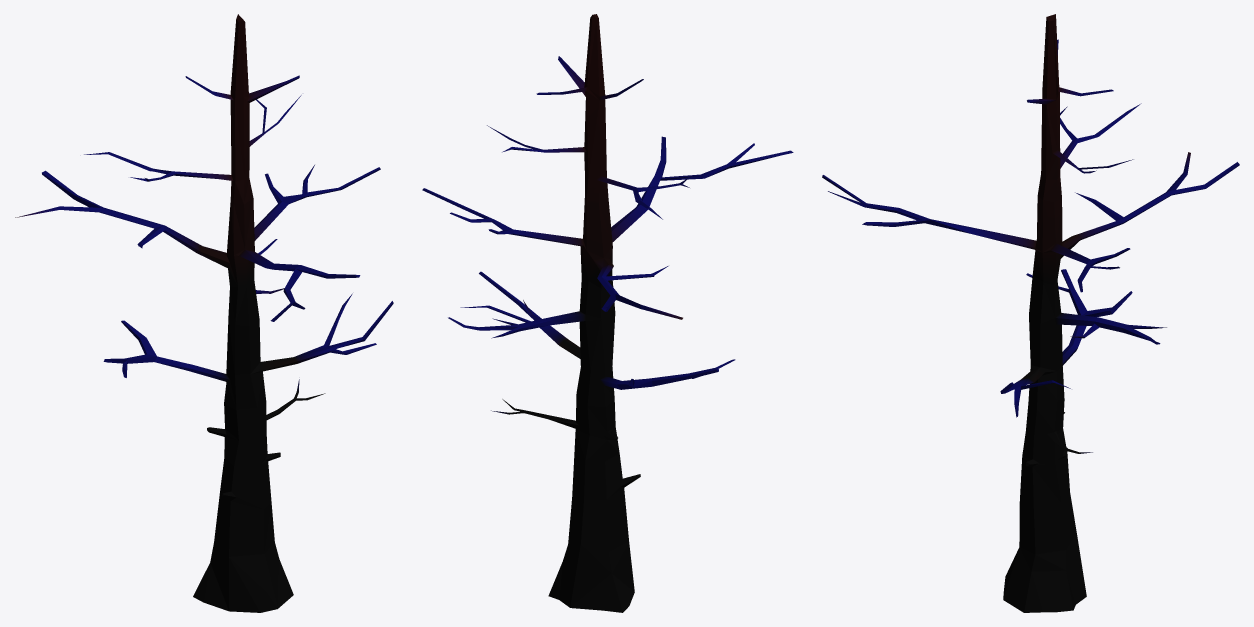
The model's file is Хуй 1.fbx.
3 views of the same model, side by side, from view 1: azimuth 30°, elevation 25°; view 2: azimuth 150°, elevation 25°; view 3: azimuth 270°, elevation 25° (orthographic).
Visible parts, largest first — view 1: Tree_Base; view 2: Tree_Base; view 3: Tree_Base.
Boxes of the visible parts, bbox=[...] form: Tree_Base: bbox=[15, 14, 393, 612]; Tree_Base: bbox=[422, 14, 793, 612]; Tree_Base: bbox=[822, 14, 1239, 612].
Bounding box in the file's own units: 173 × 307 × 200.
